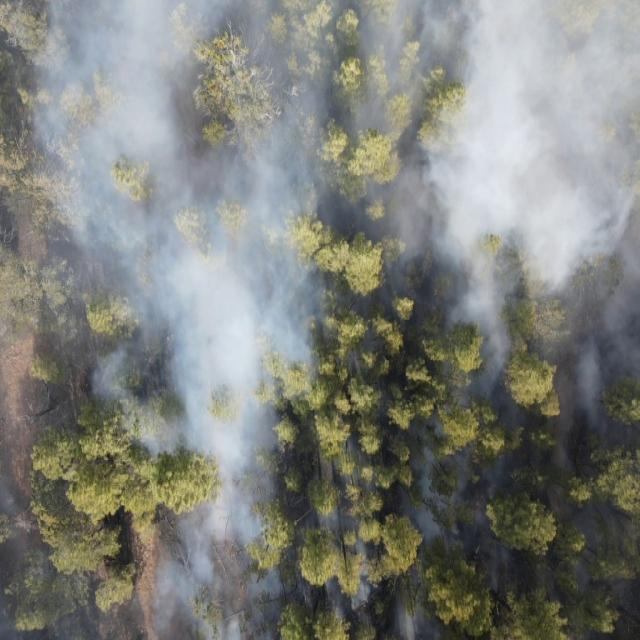smoke: (0, 0, 640, 350), (143, 510, 640, 640), (90, 351, 640, 447), (197, 448, 640, 512), (38, 554, 144, 640), (0, 474, 39, 640)
